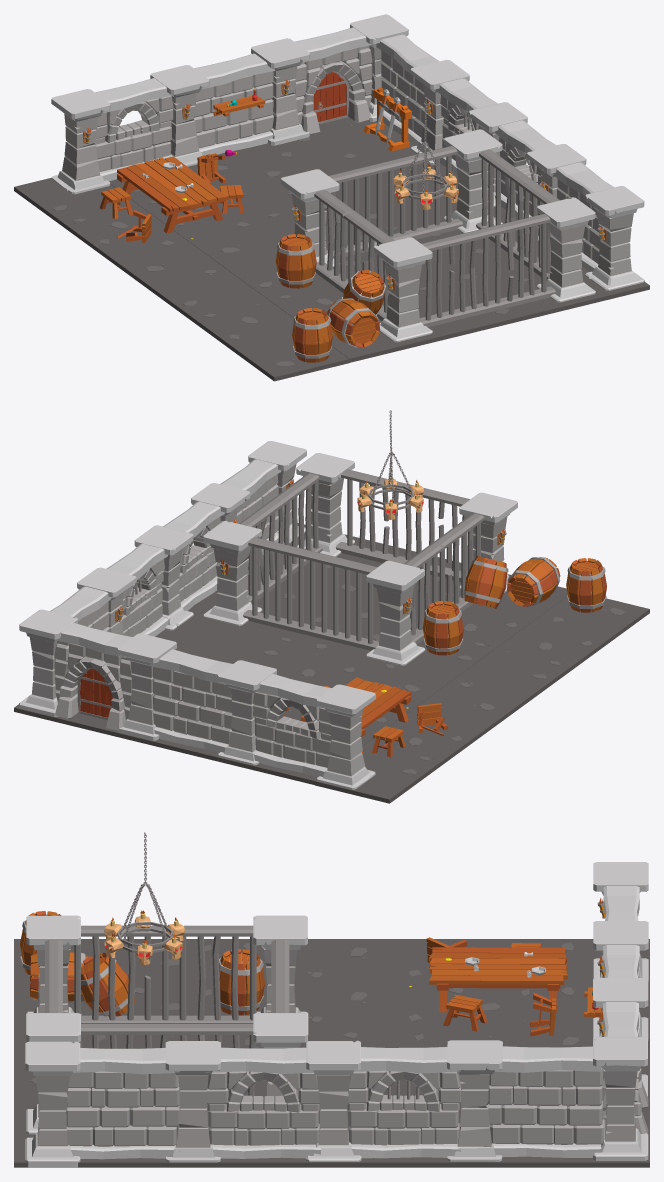
The model's file is Dungeon.fbx.
3 renders of one model, top to bottom at view 1: azimuth 30°, elevation 25°; view 2: azimuth 150°, elevation 25°; view 3: azimuth 270°, elevation 25°, orthographic. The views are drawn at different scales.
Visible parts, largest first — view 1: Grate(2), Wall(1), Wall(2), Wall(3)(Door), Grate(4), Grate(3), Grate(1), Table, Column(12), Column(5), Column(1), Column(4) (+48 smaller); view 2: Grate(4), Wall(1), Wall(2), Wall(3)(Door), Grate(2), Grate(3), Grate(1), Column(12), Column(2), Column(3), Wall(3), Wall(2).0 (+43 smaller); view 3: Wall(1).0, Wall(1).1, Wall(3), Wall(2).0, Grate(1), Table, Column(5), Column(9), Ground(21), Column(6), Column(8), Column(7) (+44 smaller).
Boxes of the visible parts, x1,y1,x2,y2 form: Grate(2): (419,214,555,327); Wall(1): (194,53,275,155); Wall(2): (95,78,173,181); Wall(3)(Door): (294,27,372,133); Grate(4): (327,146,462,258); Grate(3): (476,149,559,280); Grate(1): (314,190,394,320); Table: (117,156,227,233); Column(12): (51,89,110,194); Column(5): (585,186,644,290); Column(1): (374,237,432,342); Column(4): (536,197,595,302); Grate(4): (243,537,378,650); Wall(1): (150,649,233,752); Wall(2): (249,674,331,777); Wall(3)(Door): (54,623,132,730); Grate(2): (335,469,469,581); Grate(3): (239,473,322,604); Grate(1): (404,513,484,644); Column(12): (316,684,375,789); Column(2): (366,560,425,665); Column(3): (203,521,262,625); Wall(3): (106,543,168,636); Wall(2).0: (163,501,224,610); Wall(1).0: (488,1046,604,1157); Wall(1).1: (66,1047,179,1159); Wall(3): (347,1047,460,1158); Wall(2).0: (206,1047,320,1158); Grate(1): (74,925,256,1023); Table: (428,947,567,1012); Column(5): (25,1041,80,1167); Column(9): (593,1037,648,1160); Ground(21): (332,983,437,1028); Column(6): (165,1041,220,1162); Column(8): (447,1040,502,1161); Column(7): (306,1040,361,1161).
Bounding box in the file's own units: 3003 × 1464 × 3600.
